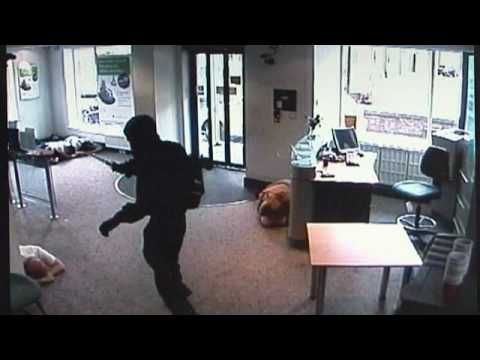gun: (82, 146, 132, 182)
